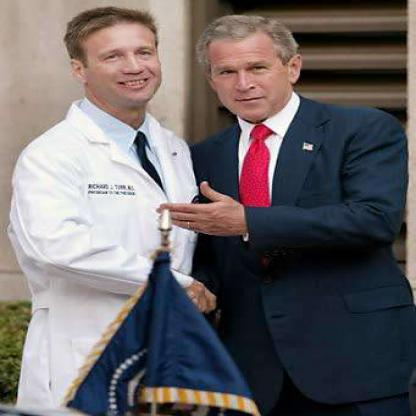face: (209, 18, 292, 121), (85, 12, 165, 106)
